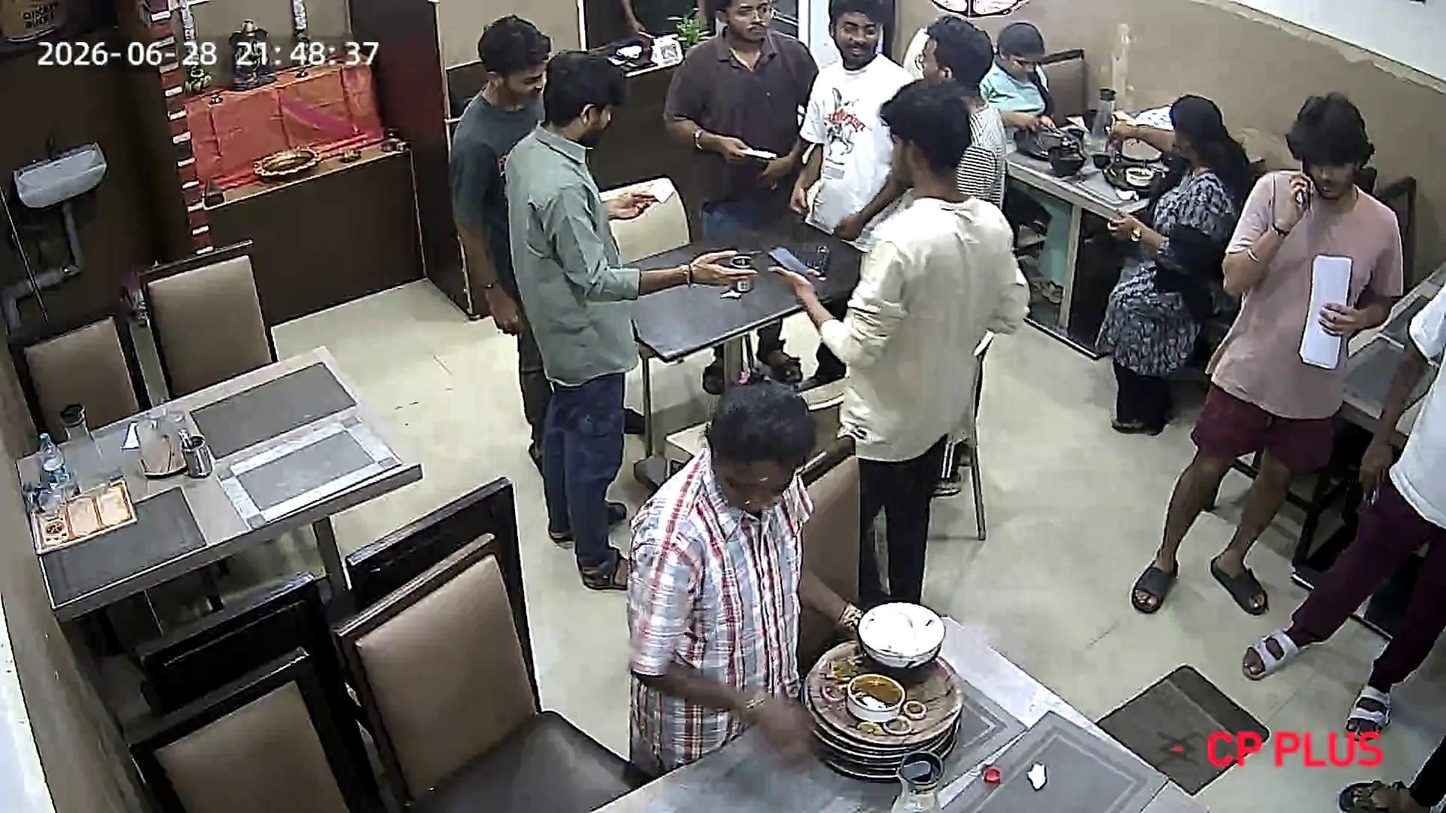dirty: (545, 590, 1215, 812), (14, 343, 420, 611)
occupied: (540, 150, 931, 368), (983, 54, 1273, 199)
